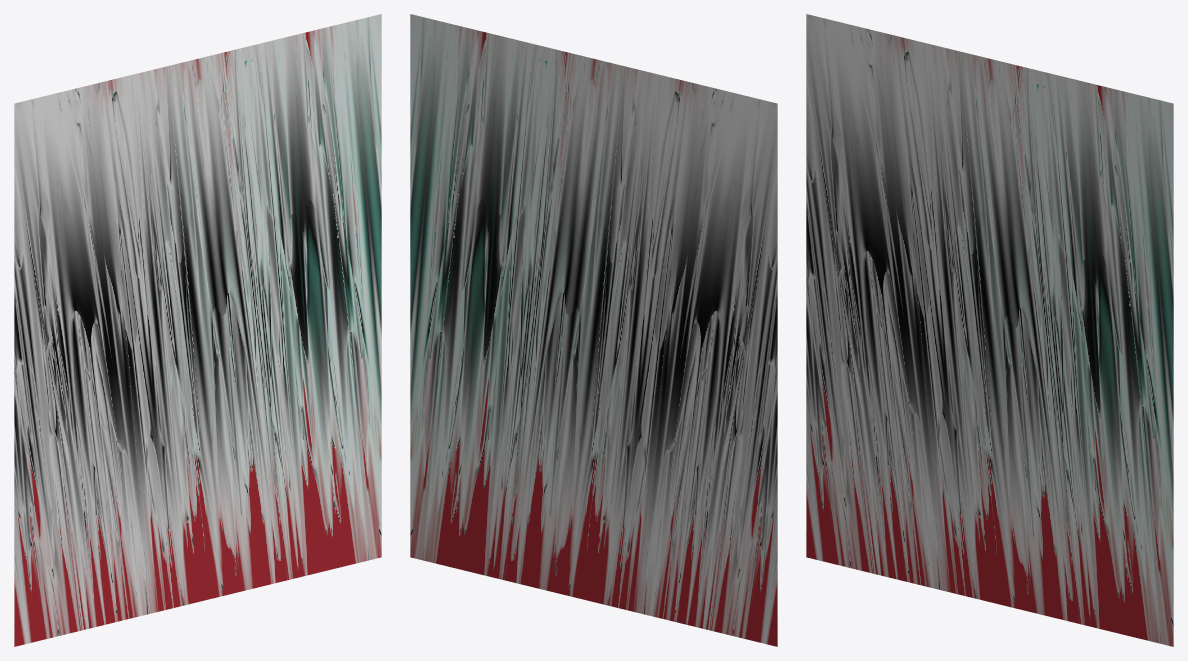
File: poster.fbx
3 views of the same model, side by side, from view 1: azimuth 30°, elevation 25°; view 2: azimuth 150°, elevation 25°; view 3: azimuth 330°, elevation 25° (orthographic).
Parts seen in each view (by area): view 1: Plane; view 2: Plane; view 3: Plane.
Part boxes in pixels (x1,y1,x2,y2): Plane: (14, 14, 381, 646); Plane: (410, 14, 777, 646); Plane: (806, 14, 1173, 646).
Size of the model in its own units: 210 by 297 by 8.41e-14.
1 material, 1 textured.
